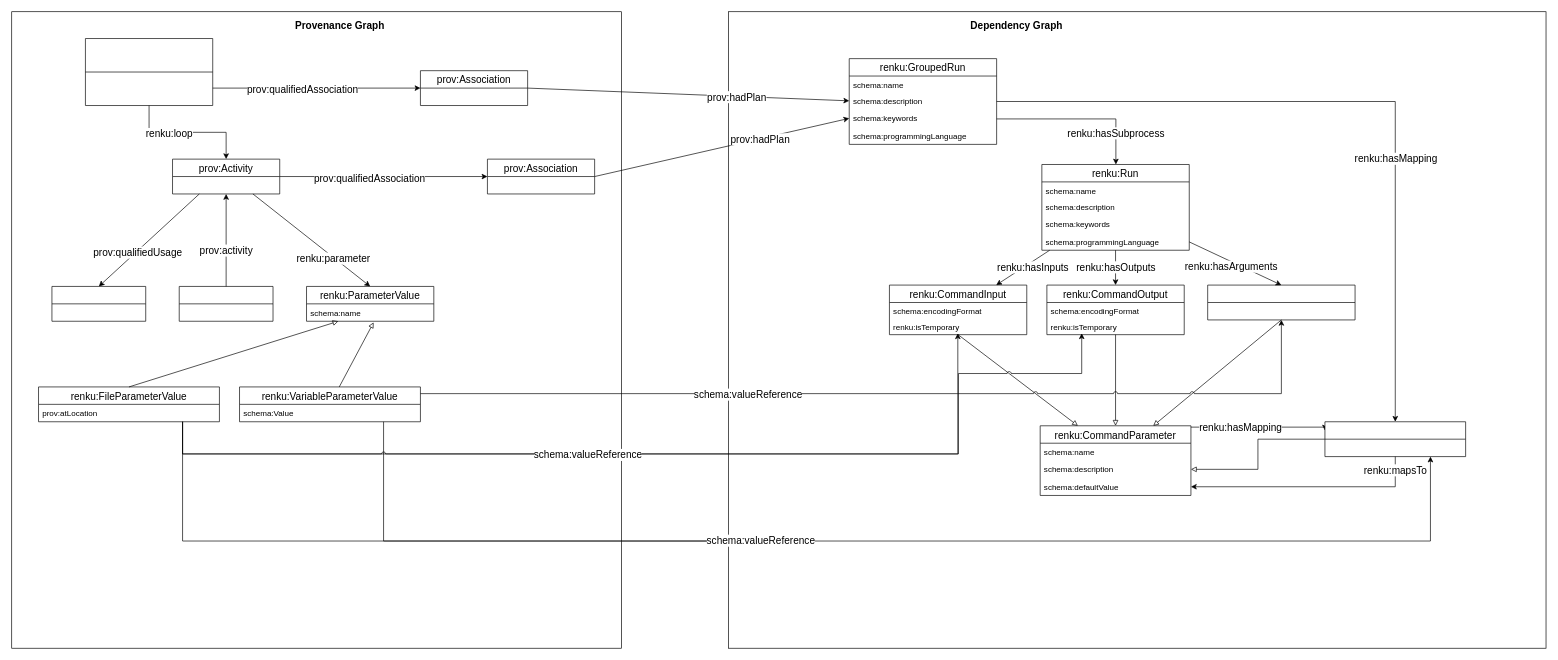
Image size: 1558x660. Some labels were removed from this diagram. The centre of each missing label's shape, as x and y in pixels:
prov:Generation: pixel 226 303
prov:Usage: pixel 98 303
renku:CommandArgument: pixel 1281 302
renku:LoopedActivity prov:Activity: pixel 149 72
renku:ParameterMapping: pixel 1395 439
